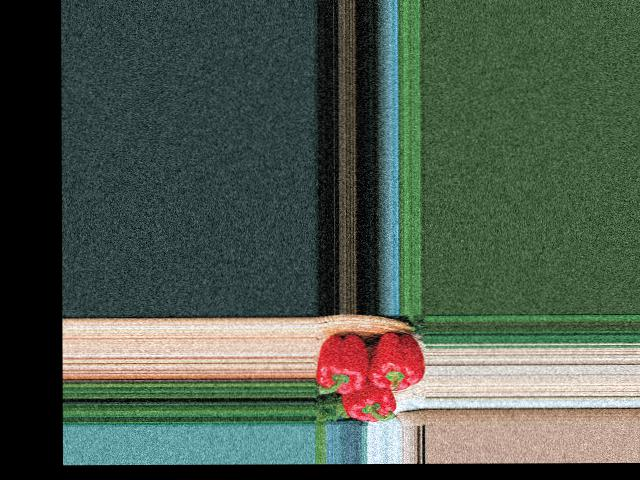bell_pepper: (316, 326, 376, 395)
